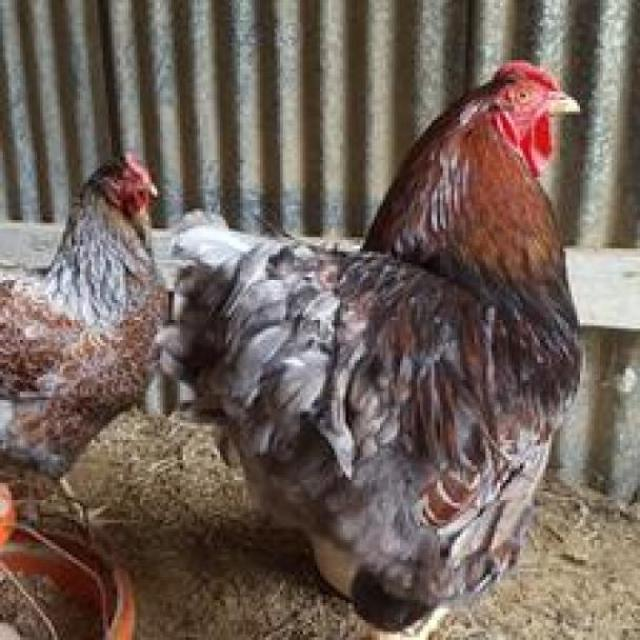Chicken: (167, 63, 618, 640), (2, 147, 160, 482)
